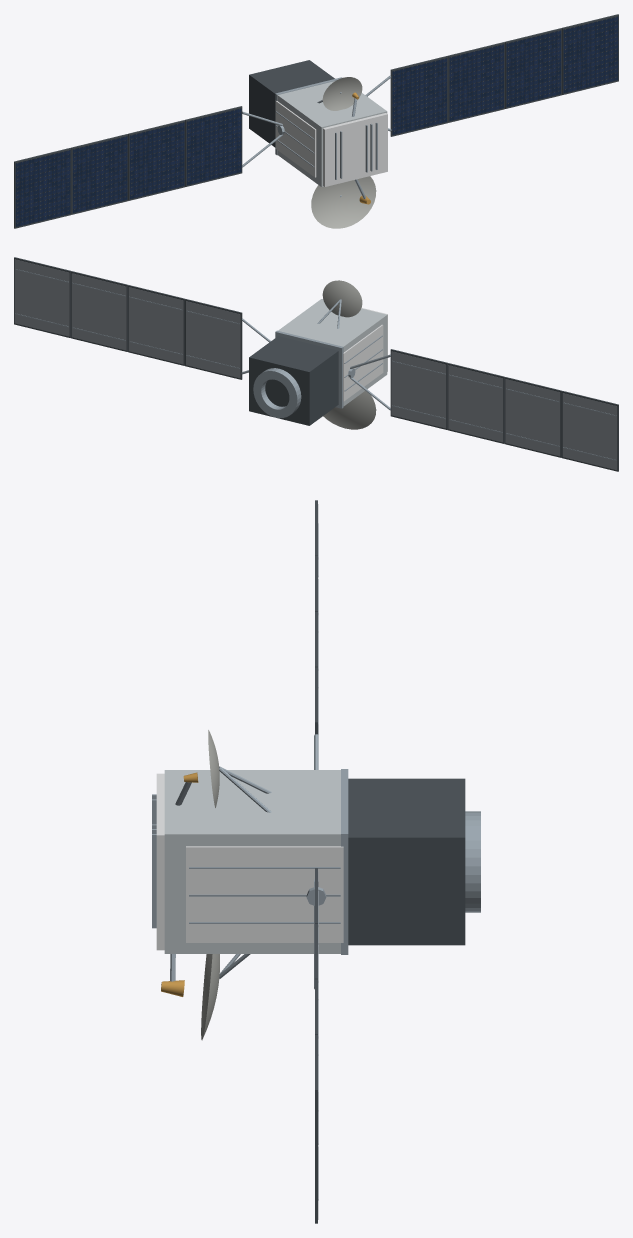
File: ref-geostar-2-4e-46114.glb
3 renders of one model, top to bottom at view 1: azimuth 30°, elevation 25°; view 2: azimuth 150°, elevation 25°; view 3: azimuth 270°, elevation 25°, orthographic. The views are drawn at different scales.
Visible parts, largest first — view 1: Solar cell panel (×8), Solar panel frame (×8), Earth-facing deck, Communications reflector (×2), Service module, Payload module, Radiator face; view 2: Rear array substrate (×8), Service module, Solar panel frame (×8), Payload module, Communications reflector (×2), Radiator face, Launch adapter ring, Module interface; view 3: Service module, Payload module, Radiator face, Launch adapter ring, Earth-facing deck, Module interface, Communications reflector.
Boxes of the visible parts, x1,y1,x2,y2 form: Solar cell panel (×8): (15,16,618,227); Solar panel frame (×8): (14,14,618,228); Earth-facing deck: (323,113,387,186); Communications reflector (×2): (311,77,376,228); Service module: (249,60,334,147); Payload module: (277,81,387,186); Radiator face: (275,101,316,177); Rear array substrate (×8): (14,259,617,470); Service module: (249,336,338,425); Solar panel frame (×8): (14,257,618,471); Payload module: (278,299,387,405); Communications reflector (×2): (322,280,376,429); Radiator face: (343,324,383,401); Launch adapter ring: (253,368,301,418); Module interface: (275,330,343,408); Service module: (348,778,465,945); Payload module: (164,770,340,953); Radiator face: (186,846,343,942); Launch adapter ring: (465,811,480,912); Earth-facing deck: (156,773,164,950); Module interface: (341,769,348,954); Communications reflector: (201,954,219,1040).
Bounding box in the file's own units: 22.98 × 5.41 × 5.42.
Materials: 8 (1 with a texture image).
